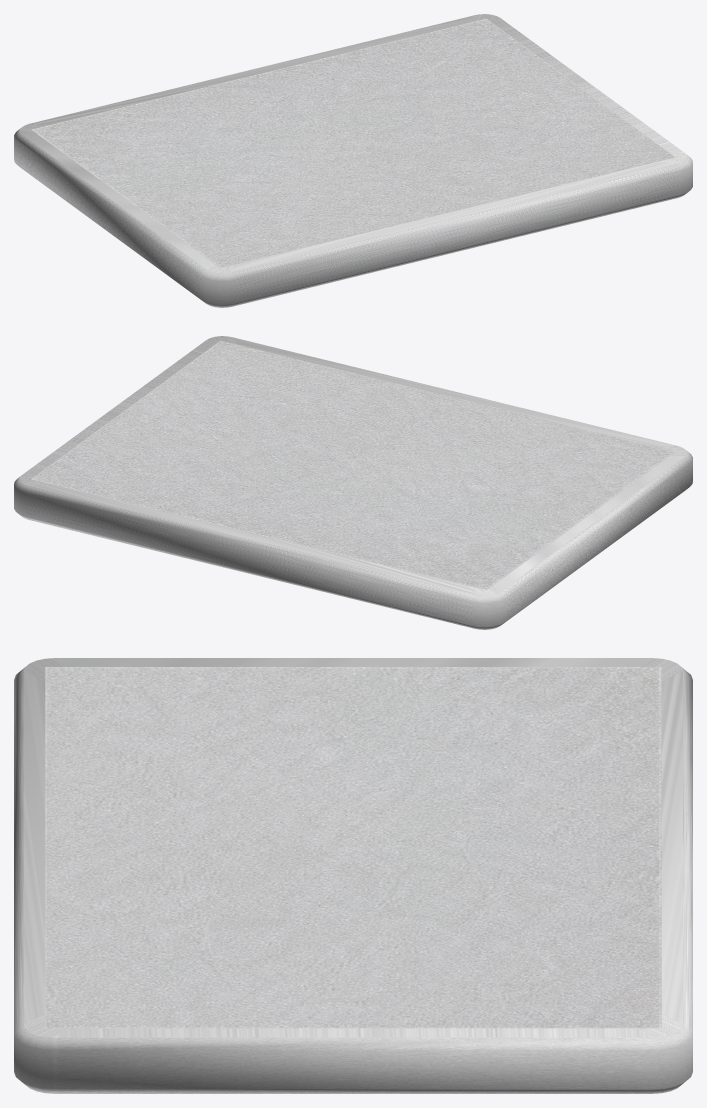
The model's file is pe_foam_sheet.glb.
3 views of the same model, one above another, from view 1: azimuth 30°, elevation 25°; view 2: azimuth 150°, elevation 25°; view 3: azimuth 270°, elevation 25° (orthographic). The views are drawn at different scales.
Visible parts, largest first — view 1: MESH_PE_Foam_Fine_Top_Surface, MESH_PE_Foam_Single_Thin_Sheet; view 2: MESH_PE_Foam_Fine_Top_Surface, MESH_PE_Foam_Single_Thin_Sheet; view 3: MESH_PE_Foam_Fine_Top_Surface, MESH_PE_Foam_Single_Thin_Sheet.
Part boxes in pixels (<box>): MESH_PE_Foam_Fine_Top_Surface: <box>31,18,675,268</box>; MESH_PE_Foam_Single_Thin_Sheet: <box>14,14,692,307</box>; MESH_PE_Foam_Fine_Top_Surface: <box>31,340,675,590</box>; MESH_PE_Foam_Single_Thin_Sheet: <box>14,336,692,629</box>; MESH_PE_Foam_Fine_Top_Surface: <box>45,667,661,1028</box>; MESH_PE_Foam_Single_Thin_Sheet: <box>14,658,692,1093</box>.
Bounding box in the file's own units: 5 × 0.342 × 3.7.
Materials: 1 (1 with a texture image).
